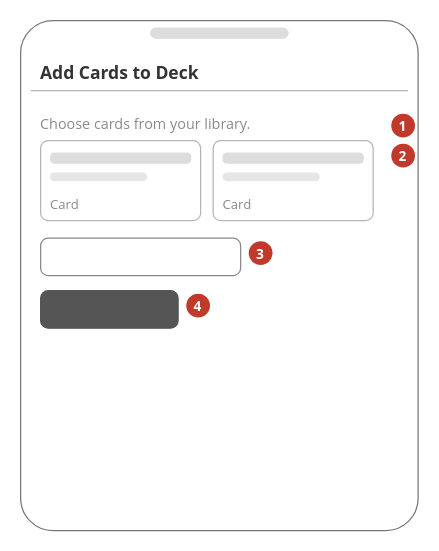
Some shapes in this 439 by 551 pixel diagram are drawn without their labels. The centre of each missing label's shape, as x and y in pixels:
Add: (108,308)
Load more cards: (140,256)
